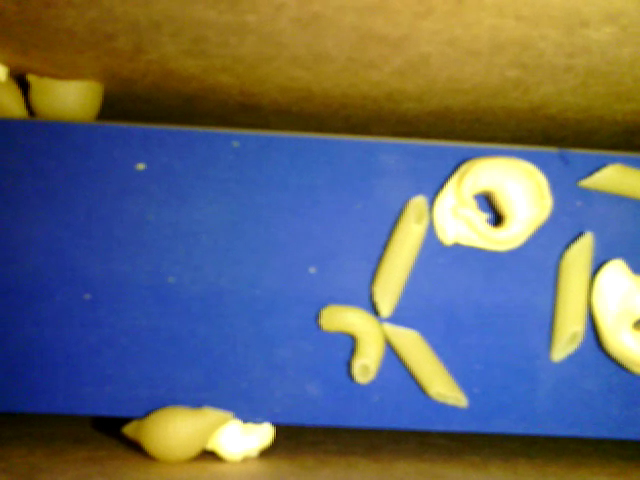elbow: (318, 304, 384, 382)
penne: (369, 192, 432, 318), (381, 322, 469, 409), (549, 231, 594, 364), (577, 160, 639, 200)
shell: (121, 403, 233, 462), (26, 73, 104, 121)
tortellini: (431, 156, 554, 251), (589, 258, 639, 375)
